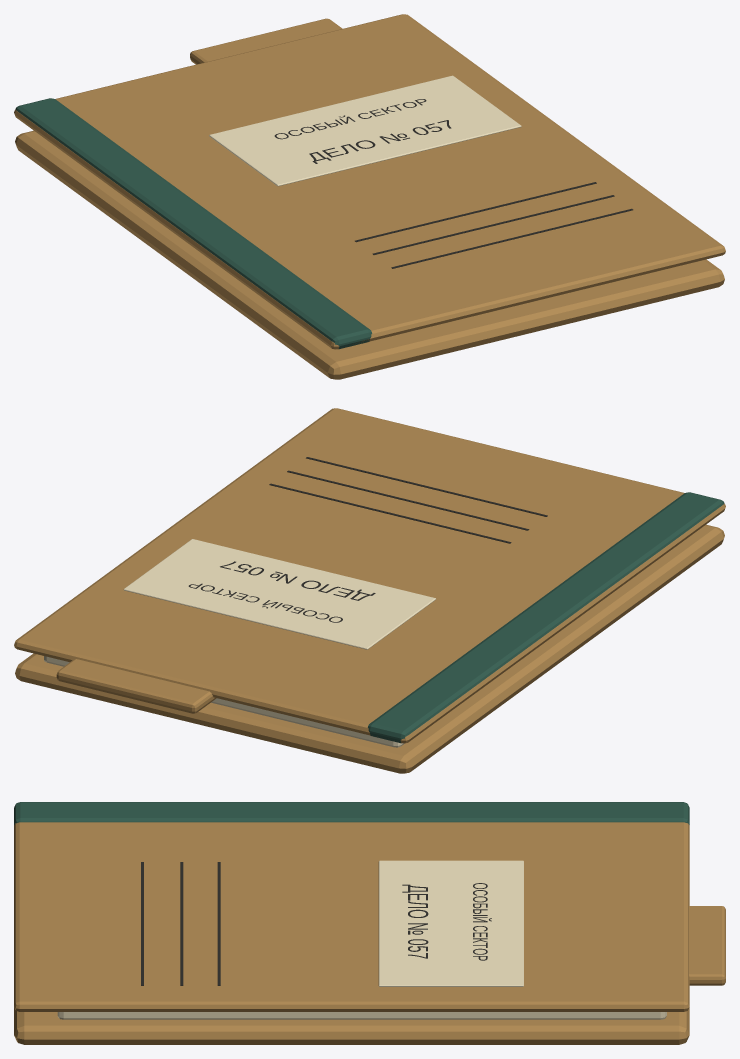
File: DossierClosed.fbx
3 views of the same model, one above another, from view 1: azimuth 30°, elevation 25°; view 2: azimuth 150°, elevation 25°; view 3: azimuth 270°, elevation 25° (orthographic). The views are drawn at different scales.
Parts seen in each view (by area): view 1: Front cover, Back cover, Pasted label, Cloth spine, Index tab, Printed rule.001, Printed rule, Printed rule.002, Label.018; view 2: Front cover, Back cover, Pasted label, Cloth spine, Index tab, Paper edges, Printed rule, Printed rule.001, Printed rule.002, Label.018; view 3: Front cover, Pasted label, Back cover, Cloth spine, Paper edges, Index tab, Label.018, Label.017, Printed rule, Printed rule.001.
Part boxes in pixels (x1=…): Front cover: x1=14, y1=14, x2=725, y2=349; Back cover: x1=15, y1=130, x2=724, y2=379; Pasted label: x1=209, y1=75, x2=521, y2=186; Cloth spine: x1=15, y1=98, x2=372, y2=349; Index tab: x1=190, y1=18, x2=342, y2=64; Printed rule.001: x1=372, y1=195, x2=614, y2=254; Printed rule: x1=355, y1=182, x2=596, y2=242; Printed rule.002: x1=391, y1=208, x2=633, y2=268; Label.018: x1=309, y1=120, x2=451, y2=163; Front cover: x1=14, y1=408, x2=725, y2=743; Back cover: x1=15, y1=524, x2=724, y2=773; Pasted label: x1=123, y1=539, x2=435, y2=649; Cloth spine: x1=367, y1=492, x2=724, y2=743; Index tab: x1=56, y1=659, x2=216, y2=713; Paper edges: x1=44, y1=656, x2=404, y2=747; Printed rule: x1=269, y1=483, x2=511, y2=543; Printed rule.001: x1=287, y1=470, x2=529, y2=530; Printed rule.002: x1=306, y1=457, x2=547, y2=516; Label.018: x1=220, y1=561, x2=375, y2=600; Front cover: x1=14, y1=822, x2=689, y2=1011; Pasted label: x1=378, y1=860, x2=523, y2=986; Back cover: x1=14, y1=1007, x2=689, y2=1044; Cloth spine: x1=14, y1=802, x2=689, y2=824; Paper edges: x1=57, y1=1012, x2=666, y2=1019; Index tab: x1=689, y1=906, x2=725, y2=985; Label.018: x1=402, y1=884, x2=428, y2=958; Label.017: x1=473, y1=883, x2=491, y2=960; Printed rule: x1=217, y1=862, x2=220, y2=985; Printed rule.001: x1=180, y1=862, x2=183, y2=985.
Bounding box in the file's own units: 0.232 × 0.0252 × 0.3435.
